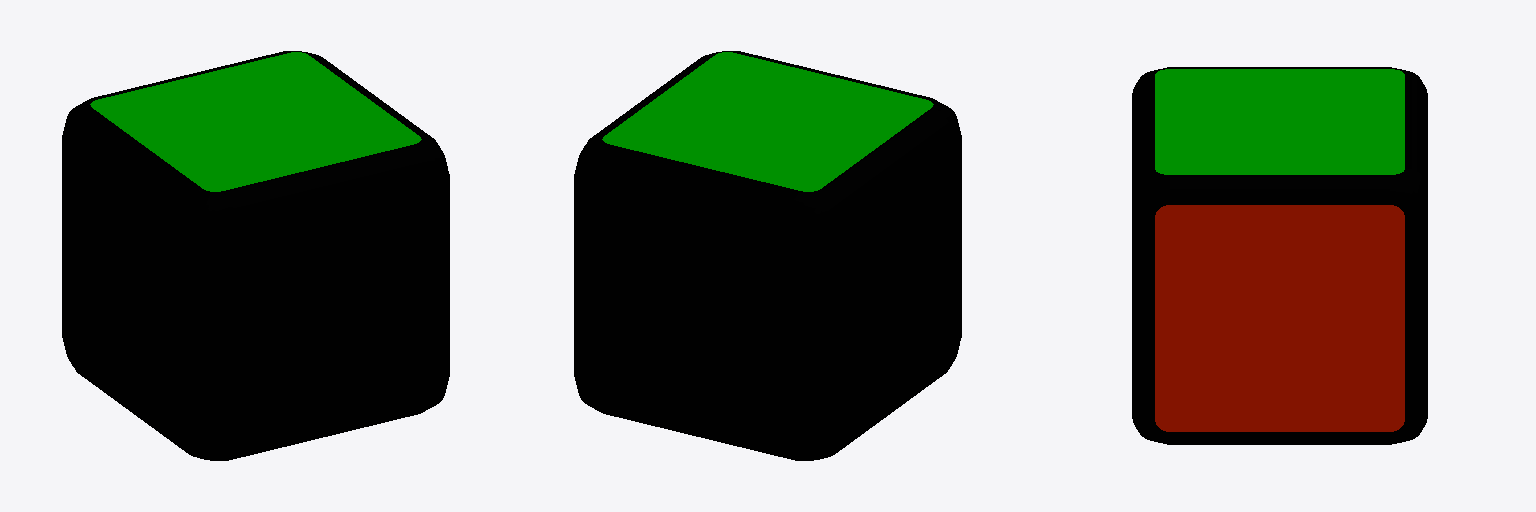
Rendered from edge_go.obj.
The picture shows the model from 3 angles: view 1: azimuth 30°, elevation 25°; view 2: azimuth 150°, elevation 25°; view 3: azimuth 270°, elevation 25°; orthographic projection.
Parts seen in each view (by area): view 1: Cube; view 2: Cube; view 3: Cube.
Part boxes in pixels (x1,y1,x2,y2): Cube: (62,51,449,460); Cube: (574,51,961,460); Cube: (1132,67,1427,444).
Bounding box in the file's own units: 2 × 2 × 2.